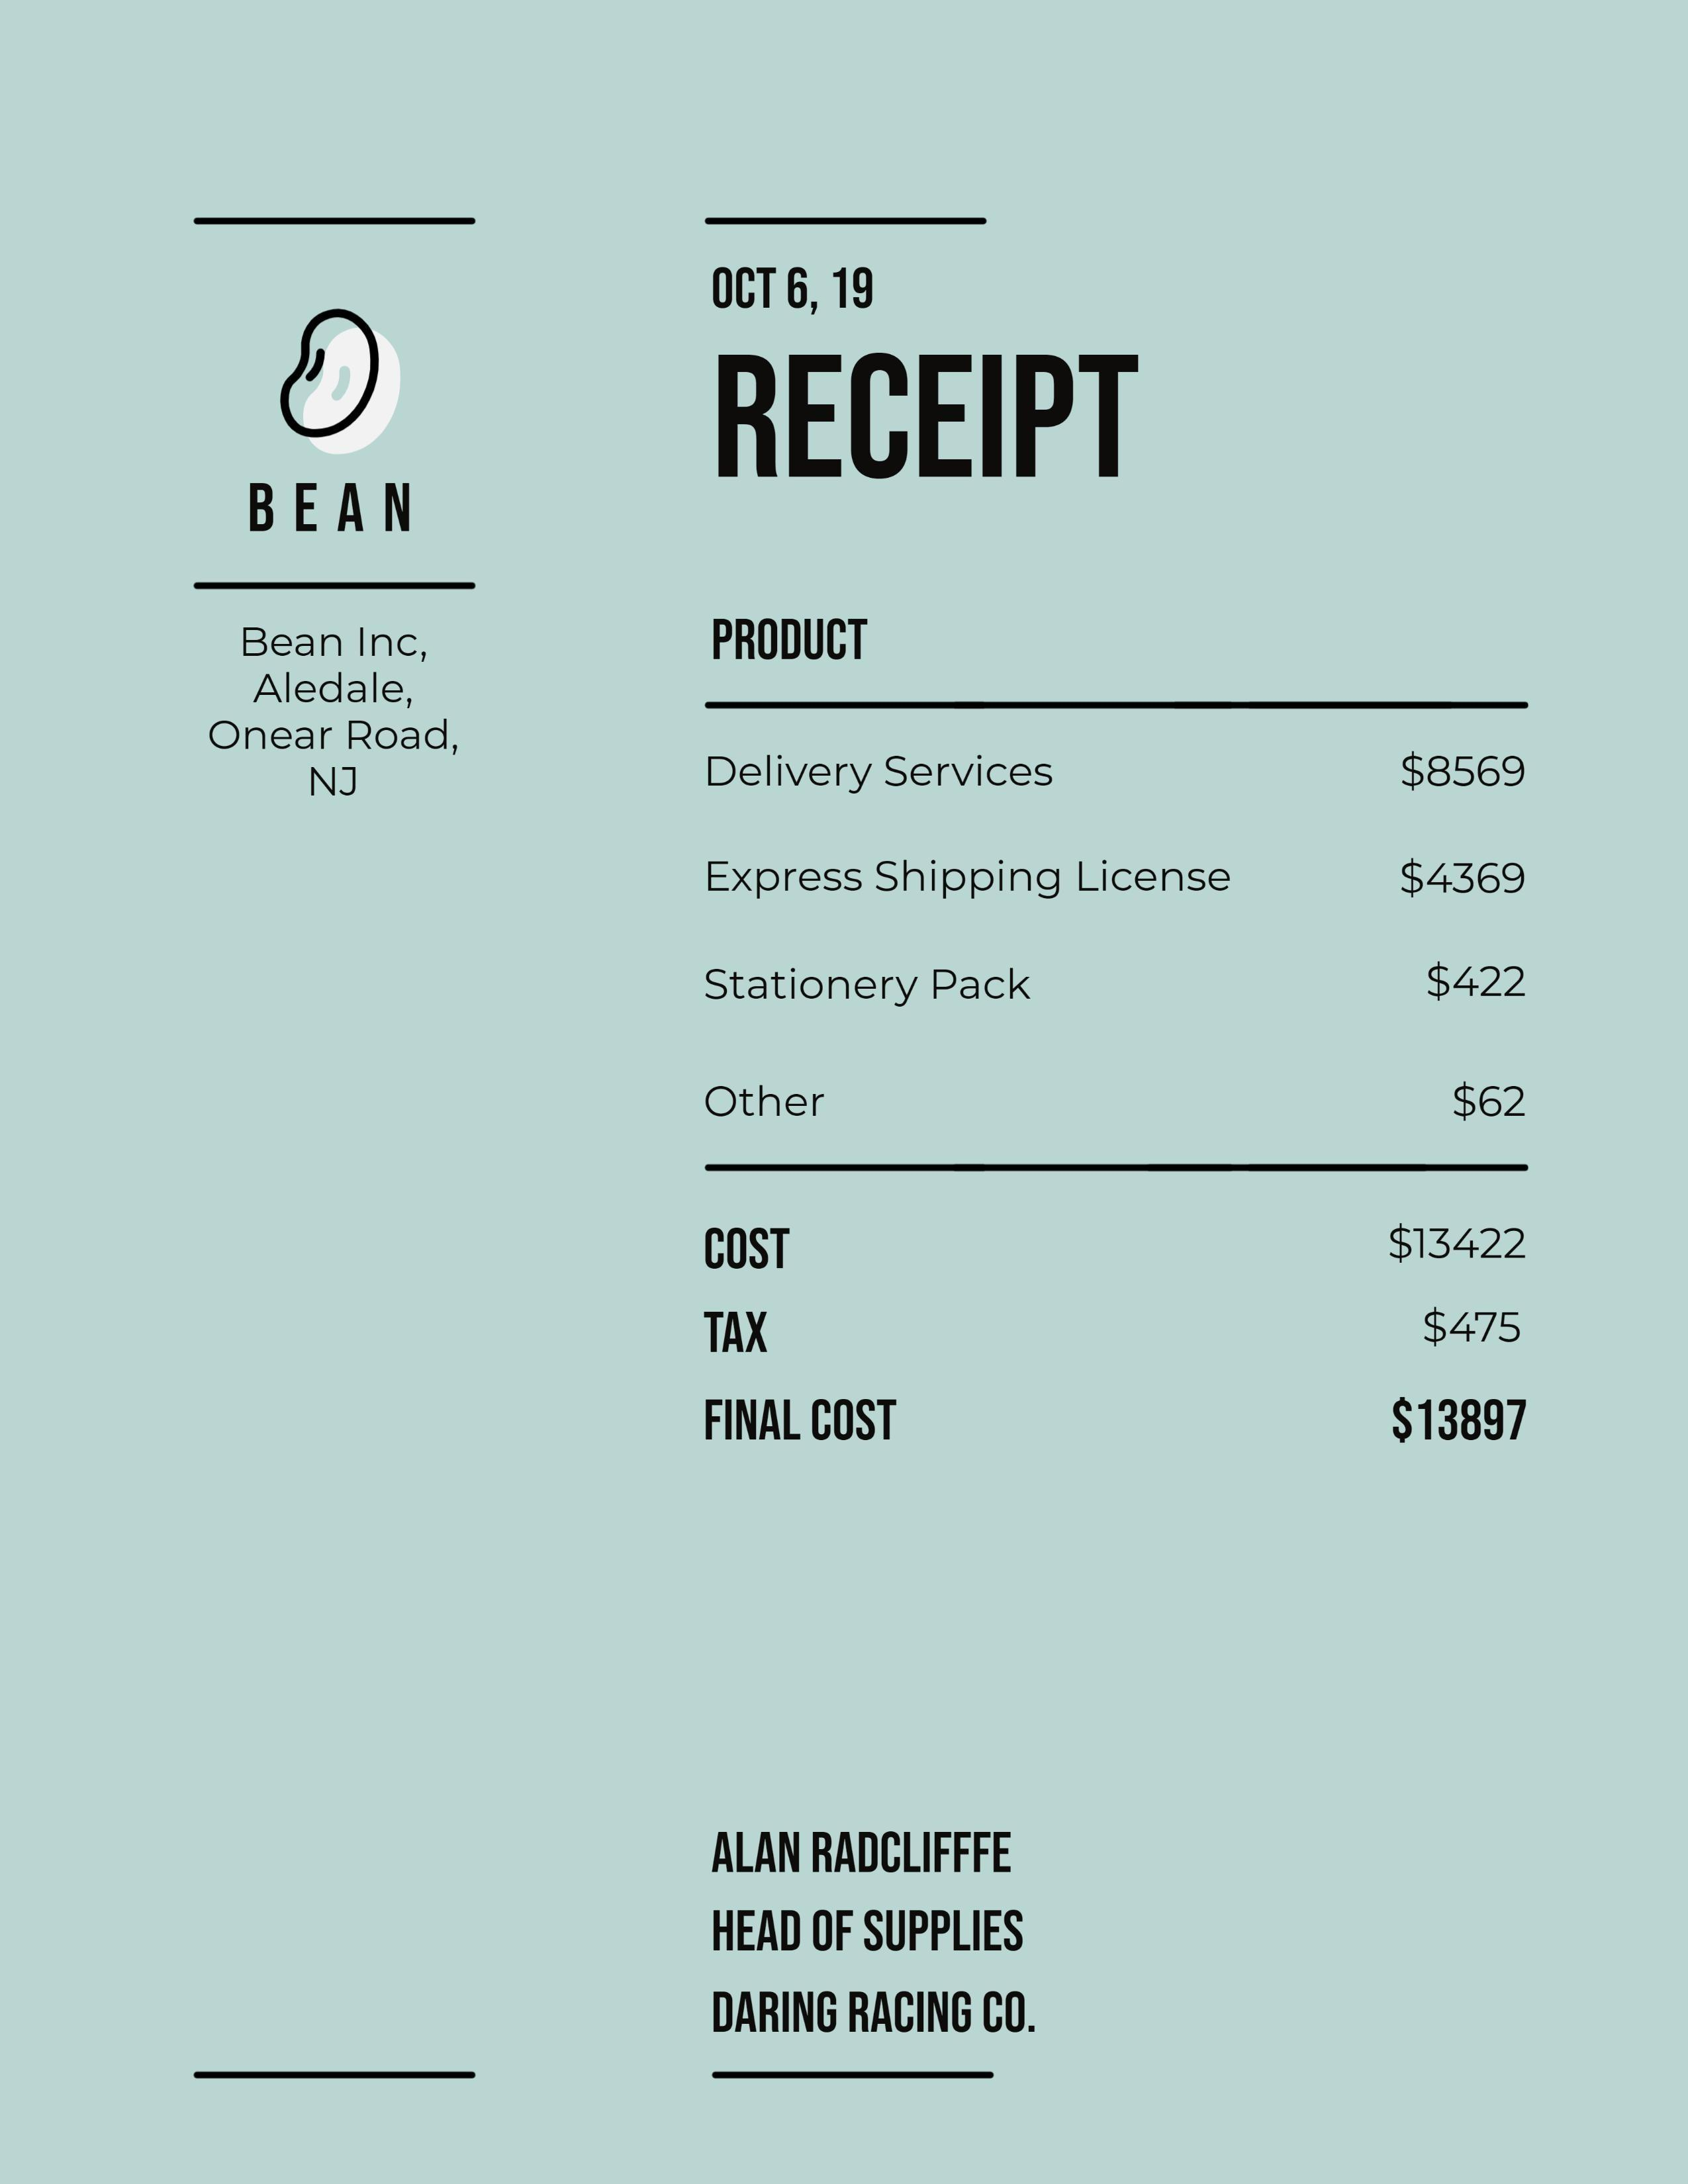ROI: (674, 581, 1557, 1184), (692, 1213, 1544, 1503), (165, 604, 502, 821), (677, 236, 943, 326)
